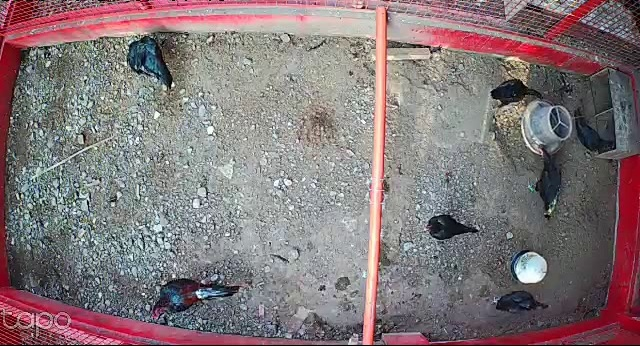Chicken: (526, 145, 562, 220), (125, 37, 175, 89), (487, 73, 547, 113), (571, 106, 616, 157), (491, 287, 552, 315), (424, 214, 481, 241)
Drinker: (510, 249, 548, 285)
Feeder: (520, 97, 574, 158)
Rooster: (151, 275, 241, 322)
